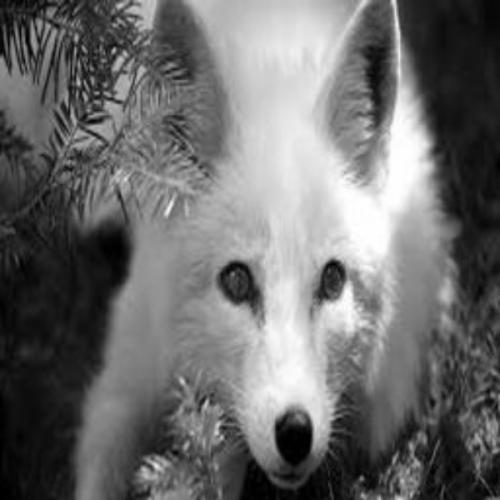arctic_fox-endangered: (103, 3, 446, 488)
